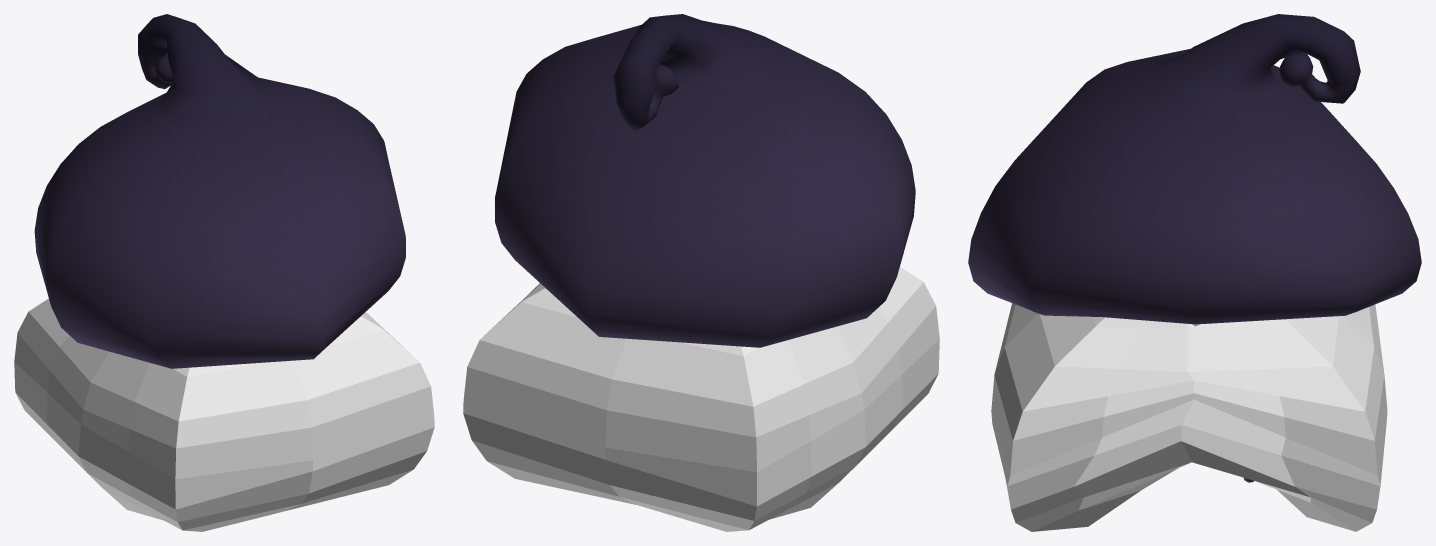
File: portSmooth.fbx
3 views of the same model, side by side, from view 1: azimuth 30°, elevation 25°; view 2: azimuth 150°, elevation 25°; view 3: azimuth 270°, elevation 25° (orthographic). The views are drawn at different scales.
Parts seen in each view (by area): view 1: Cylinder, Cube.001; view 2: Cylinder, Cube.001; view 3: Cylinder, Cube.001.
Boxes of the visible parts, left/top/right/bottom form: Cylinder: left=34, top=14, right=405, bottom=368; Cube.001: left=14, top=298, right=434, bottom=531; Cylinder: left=495, top=14, right=915, bottom=347; Cube.001: left=463, top=267, right=939, bottom=531; Cylinder: left=968, top=14, right=1421, bottom=482; Cube.001: left=991, top=303, right=1387, bottom=531.
Size of the model in its own units: 213 by 261 by 215.
4 materials, 4 textured.
